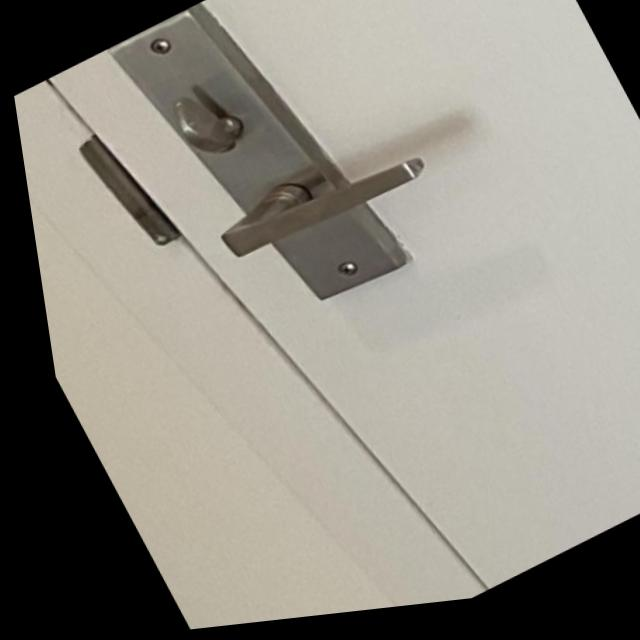door_handle: (165, 96, 475, 315)
